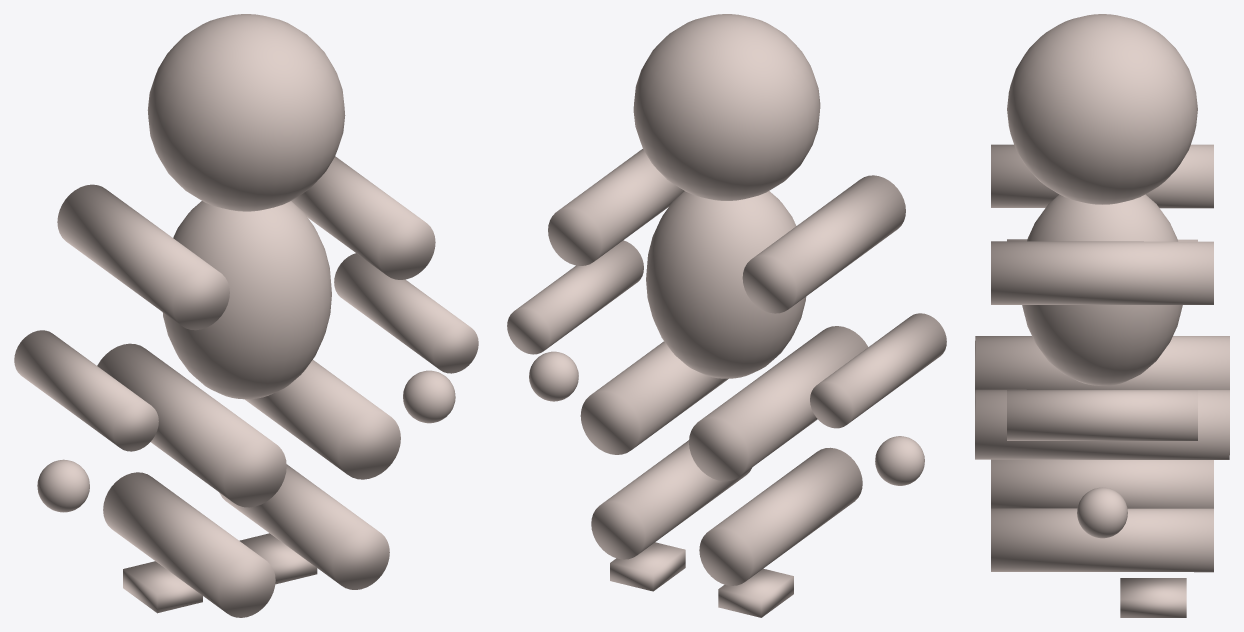
The model's file is Character_Female.fbx.
3 renders of one model, left to right at view 1: azimuth 30°, elevation 25°; view 2: azimuth 150°, elevation 25°; view 3: azimuth 270°, elevation 25°, orthographic. The views are drawn at different scales.
Parts seen in each view (by area): view 1: Character_Female; view 2: Character_Female; view 3: Character_Female.
Boxes of the visible parts, box(x1,y1,x2,y2) form: Character_Female: box(14, 14, 478, 617); Character_Female: box(507, 14, 946, 617); Character_Female: box(975, 14, 1229, 617).
Size of the model in its own units: 72 by 96.6 by 40.01.
